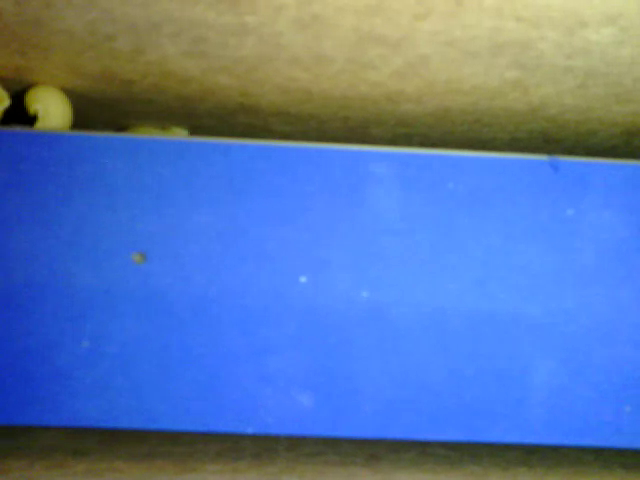shell: (24, 81, 75, 134)
